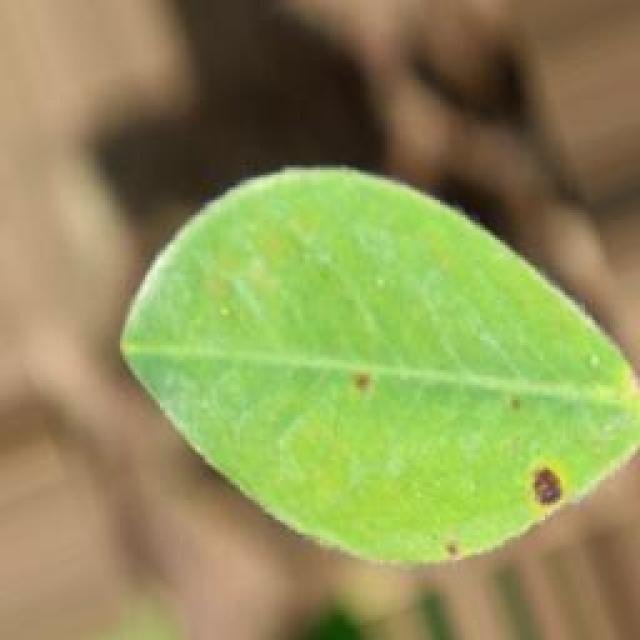Sigatoka: (401, 529, 521, 597), (517, 438, 579, 520), (332, 349, 400, 413), (466, 387, 536, 428)
